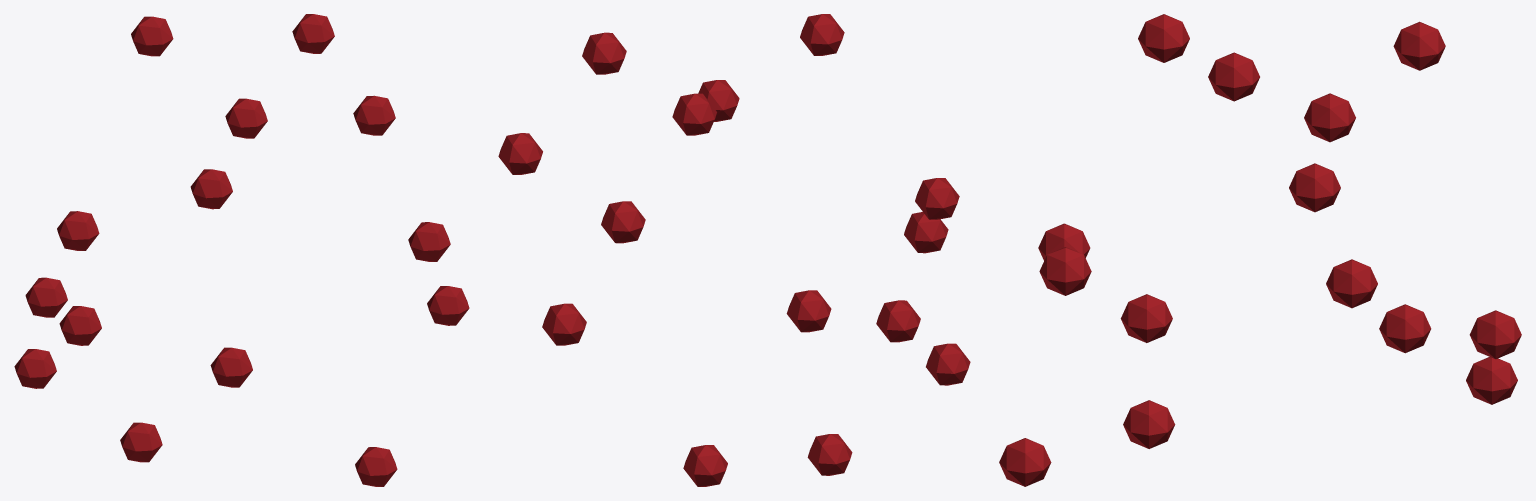
Rendered from Hedge-2x2x2-Circular_Berries.FBX.
3 renders of one model, left to right at view 1: azimuth 30°, elevation 25°; view 2: azimuth 150°, elevation 25°; view 3: azimuth 270°, elevation 25°, orthographic. The views are drawn at different scales.
Parts seen in each view (by area): view 1: Hedge-2x2x2-Circular_Berries; view 2: Hedge-2x2x2-Circular_Berries; view 3: Hedge-2x2x2-Circular_Berries.
Boxes of the visible parts, box(x1,y1,x2,y2) form: Hedge-2x2x2-Circular_Berries: box(14, 14, 469, 486); Hedge-2x2x2-Circular_Berries: box(498, 14, 970, 486); Hedge-2x2x2-Circular_Berries: box(999, 14, 1521, 486).
Size of the model in its own units: 20.13 by 18.16 by 20.
